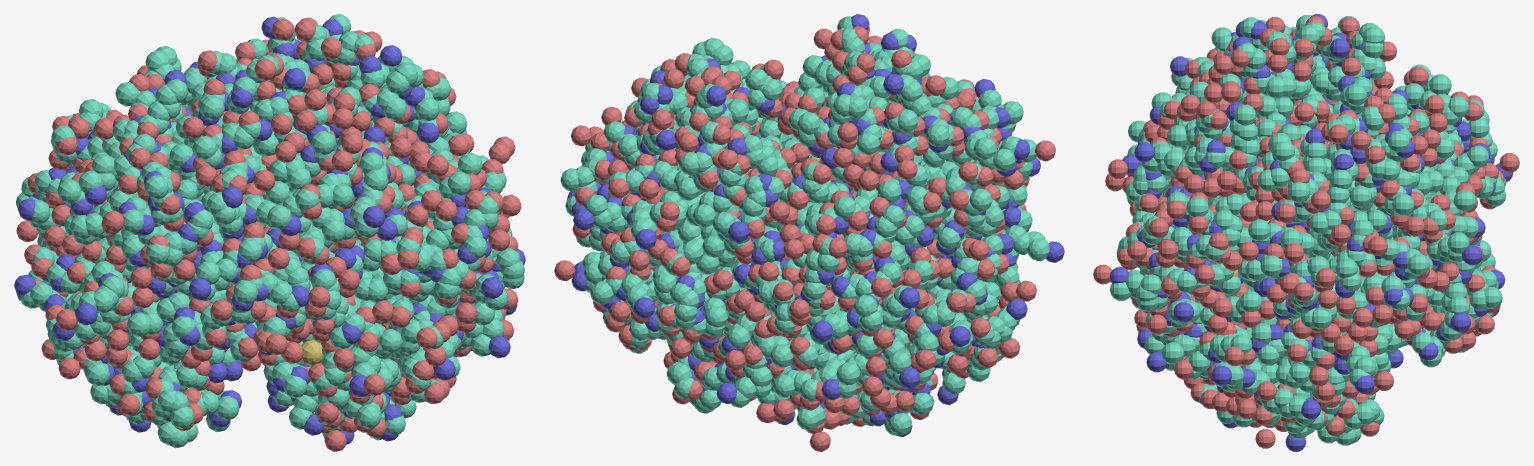
The model's file is 4hhb__spheres__default.glb.
The picture shows the model from 3 angles, left to right: view 1: azimuth 30°, elevation 25°; view 2: azimuth 150°, elevation 25°; view 3: azimuth 270°, elevation 25°; orthographic projection. The views are drawn at different scales.
Visible parts, largest first — view 1: Renderer Node; view 2: Renderer Node; view 3: Renderer Node.
Part boxes in pixels (x1=…): Renderer Node: x1=14, y1=14, x2=525, y2=451; Renderer Node: x1=554, y1=14, x2=1064, y2=451; Renderer Node: x1=1093, y1=14, x2=1519, y2=451.
Bounding box in the file's own units: 73.32 × 60.06 × 63.83.
